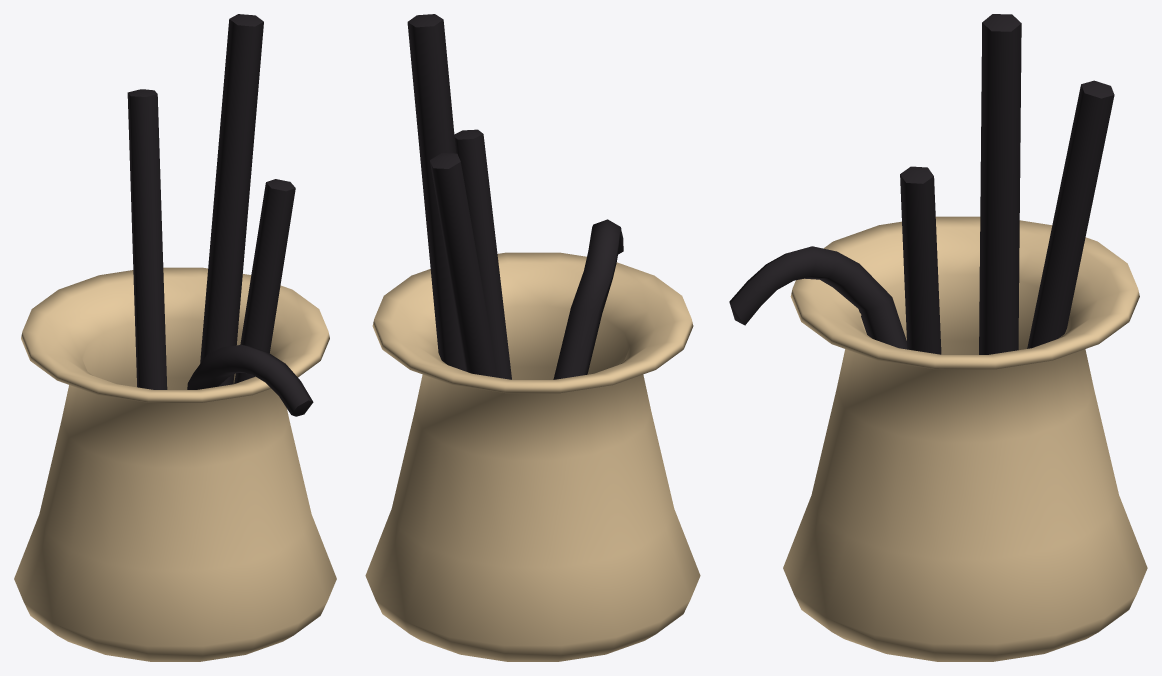
Rendered from SE_102_sticks_pot.glb.
3 renders of one model, left to right at view 1: azimuth 30°, elevation 25°; view 2: azimuth 150°, elevation 25°; view 3: azimuth 270°, elevation 25°, orthographic. The views are drawn at different scales.
Visible parts, largest first — view 1: pot, stick_1, stick_2, stick_3, stick_deformed; view 2: pot, stick_1, stick_2, stick_3, stick_deformed; view 3: pot, stick_1, stick_2, stick_deformed, stick_3.
Boxes of the visible parts, bbox=[...] form: pot: bbox=[14, 267, 336, 661]; stick_1: bbox=[200, 14, 263, 386]; stick_2: bbox=[127, 89, 167, 389]; stick_3: bbox=[234, 179, 295, 383]; stick_deformed: bbox=[187, 344, 313, 416]; pot: bbox=[365, 252, 700, 661]; stick_1: bbox=[407, 14, 465, 371]; stick_2: bbox=[430, 153, 497, 377]; stick_3: bbox=[454, 129, 511, 379]; stick_deformed: bbox=[553, 219, 623, 379]; pot: bbox=[783, 216, 1147, 661]; stick_1: bbox=[979, 14, 1021, 354]; stick_2: bbox=[1027, 80, 1114, 348]; stick_deformed: bbox=[729, 246, 907, 349]; stick_3: bbox=[900, 166, 941, 354].
Bounding box in the file's own units: 0.5387 × 1.04 × 0.6275.
